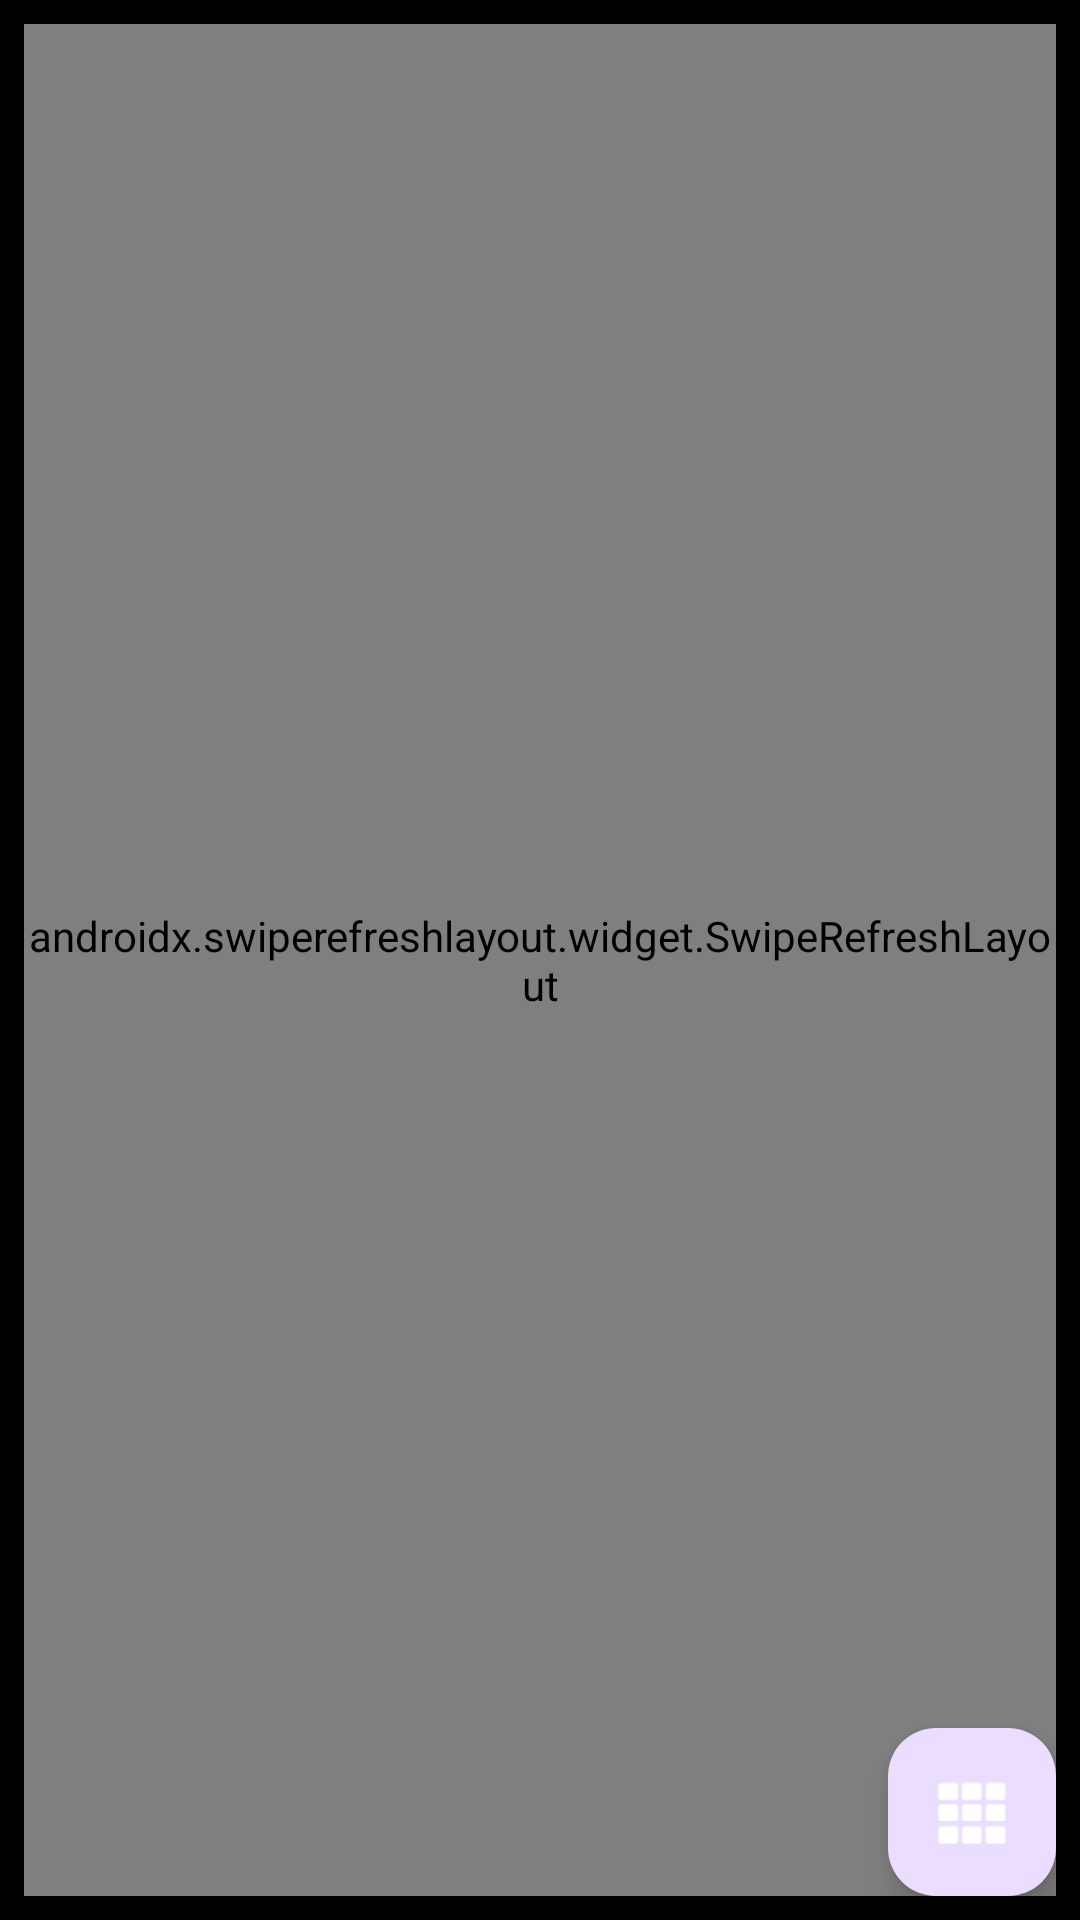

Icons on this 1080w x 1920h Android screen, each with the point to tap as point (x, y):
dialer: point (972, 1812)
